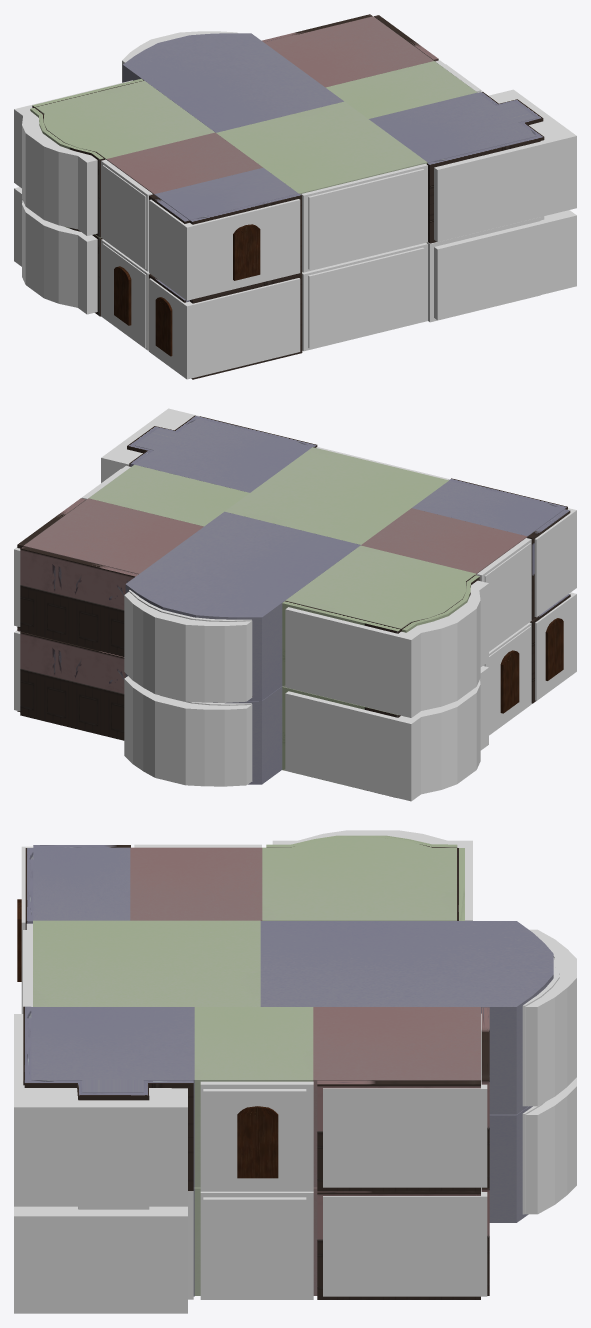
Rendered from TO TEN DOBRY.fbx.
3 renders of one model, top to bottom at view 1: azimuth 30°, elevation 25°; view 2: azimuth 150°, elevation 25°; view 3: azimuth 270°, elevation 25°, orthographic. The views are drawn at different scales.
Visible parts, largest first — view 1: Salon.001, Bathroom hole (always inactive).001, Bathroom hole (always inactive), Corridor.001, Maids room hole (always inactive), Maids room hole (always inactive).001, Corridor hole (always inactive).001, Corridor hole (always inactive), Dining room.001, Dining hole (always inactive).001, Bathroom.001, Kitchen.001 (+20 smaller); view 2: Salon.001, Dining hole (always inactive).001, Dining hole (always inactive), Corridor.001, Salon hole (always inactive).001, Salon hole (always inactive), Dining room.001, Kitchen back wall.001, Kitchen back wall, Bathroom.001, Kitchen.001, Guest room.001 (+19 smaller); view 3: Salon.001, Bathroom hole (always inactive).001, Corridor.001, Bathroom hole (always inactive), Kitchen hole (always inactive), Kitchen hole (always inactive).001, Dining room.001, Bathroom.001, Kitchen.001, Storage hole (always inactive), Guest room.001, Storage.001 (+19 smaller).
Boxes of the visible parts, x1=… form: Salon.001: x1=122, y1=33, x2=343, y2=132; Bathroom hole (always inactive).001: x1=434, y1=89, x2=576, y2=241; Bathroom hole (always inactive): x1=434, y1=210, x2=576, y2=320; Corridor.001: x1=216, y1=101, x2=427, y2=194; Maids room hole (always inactive): x1=149, y1=278, x2=300, y2=379; Maids room hole (always inactive).001: x1=149, y1=199, x2=300, y2=300; Corridor hole (always inactive).001: x1=308, y1=169, x2=424, y2=269; Corridor hole (always inactive): x1=308, y1=247, x2=424, y2=348; Dining room.001: x1=35, y1=80, x2=214, y2=159; Dining hole (always inactive).001: x1=14, y1=80, x2=132, y2=235; Bathroom.001: x1=369, y1=92, x2=536, y2=162; Kitchen.001: x1=264, y1=16, x2=433, y2=87; Salon.001: x1=125, y1=511, x2=360, y2=700; Dining hole (always inactive).001: x1=285, y1=580, x2=488, y2=717; Dining hole (always inactive): x1=285, y1=666, x2=488, y2=801; Corridor.001: x1=225, y1=447, x2=448, y2=544; Salon hole (always inactive).001: x1=124, y1=592, x2=252, y2=702; Salon hole (always inactive): x1=124, y1=676, x2=252, y2=786; Dining room.001: x1=285, y1=545, x2=476, y2=628; Kitchen back wall.001: x1=20, y1=546, x2=138, y2=656; Kitchen back wall: x1=20, y1=632, x2=125, y2=740; Bathroom.001: x1=135, y1=418, x2=312, y2=492; Kitchen.001: x1=24, y1=498, x2=203, y2=574; Guest room.001: x1=361, y1=508, x2=527, y2=575; Salon.001: x1=260, y1=921, x2=553, y2=1114; Bathroom hole (always inactive).001: x1=14, y1=1014, x2=187, y2=1206; Corridor.001: x1=33, y1=920, x2=260, y2=1006; Bathroom hole (always inactive): x1=14, y1=1206, x2=187, y2=1313; Kitchen hole (always inactive): x1=323, y1=1187, x2=487, y2=1296; Kitchen hole (always inactive).001: x1=323, y1=1013, x2=487, y2=1187; Dining room.001: x1=262, y1=838, x2=456, y2=920; Bathroom.001: x1=31, y1=1007, x2=194, y2=1187; Kitchen.001: x1=313, y1=1007, x2=480, y2=1187; Storage hole (always inactive): x1=203, y1=1197, x2=306, y2=1296; Guest room.001: x1=130, y1=847, x2=262, y2=920; Storage.001: x1=194, y1=1007, x2=313, y2=1187.
Bounding box in the file's own units: 1690 × 619 × 1458.
